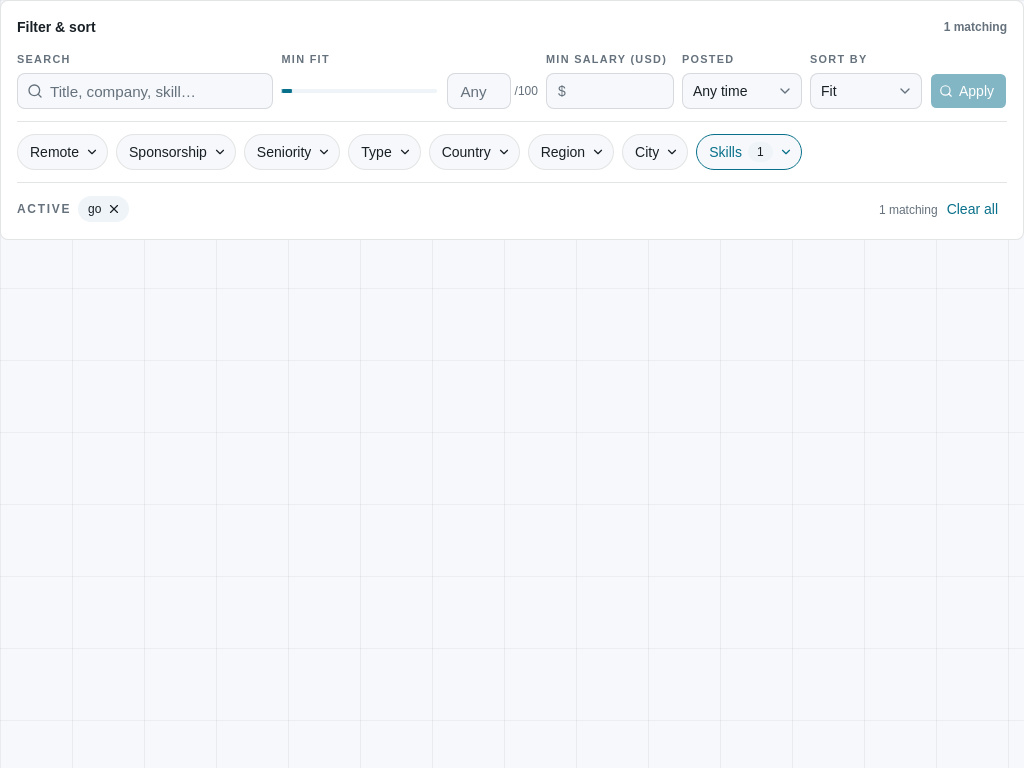
Test case: FilterDesk › shows active normalized skills in the popover
The image size is (1024, 768).
Step 1. Click the button "Skills 1" → (749, 152), box [696,134,802,170]
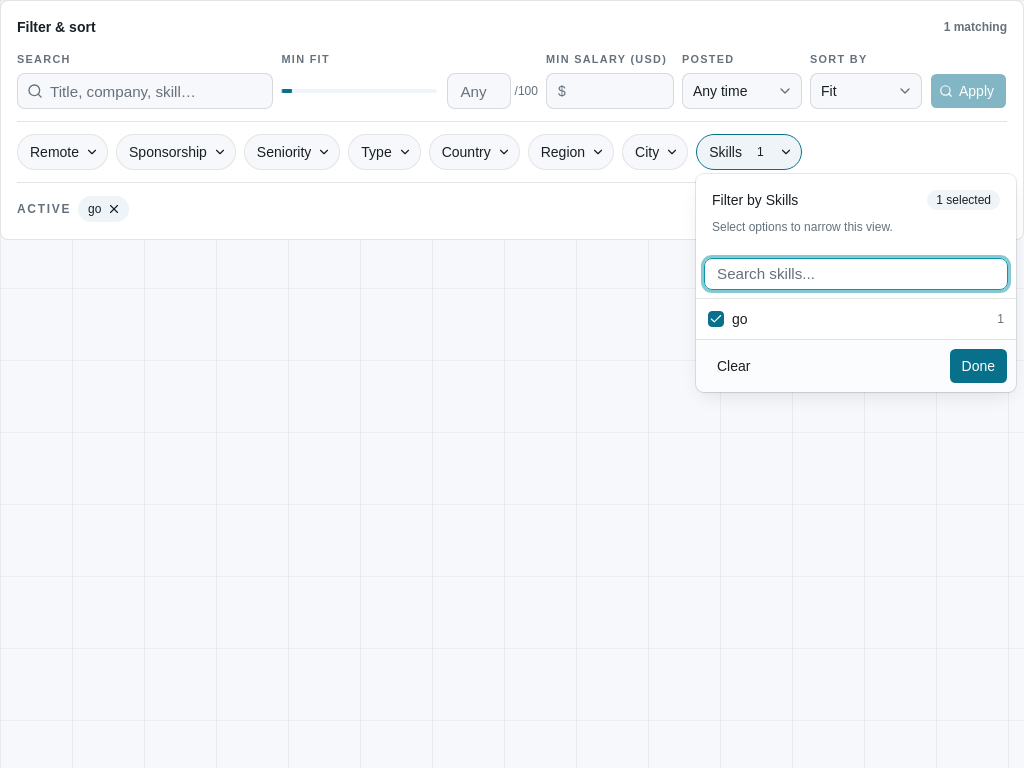
Check: the number of buttons "go" is 2, box [77,195,130,223]; [732,310,748,326]
